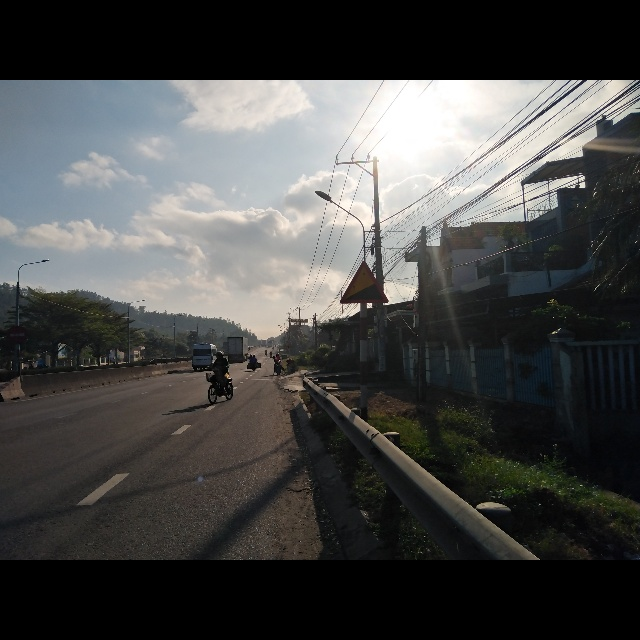Dốc lên nguy hiểm: (343, 261, 391, 305)
